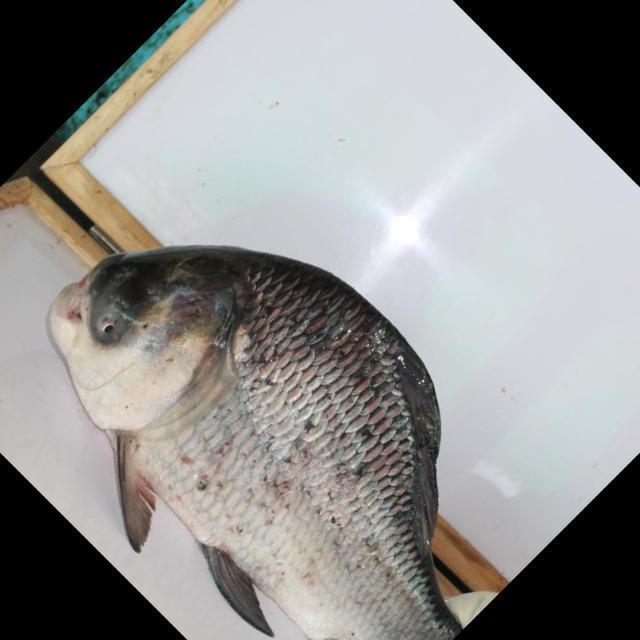Catla: (46, 244, 464, 640)
